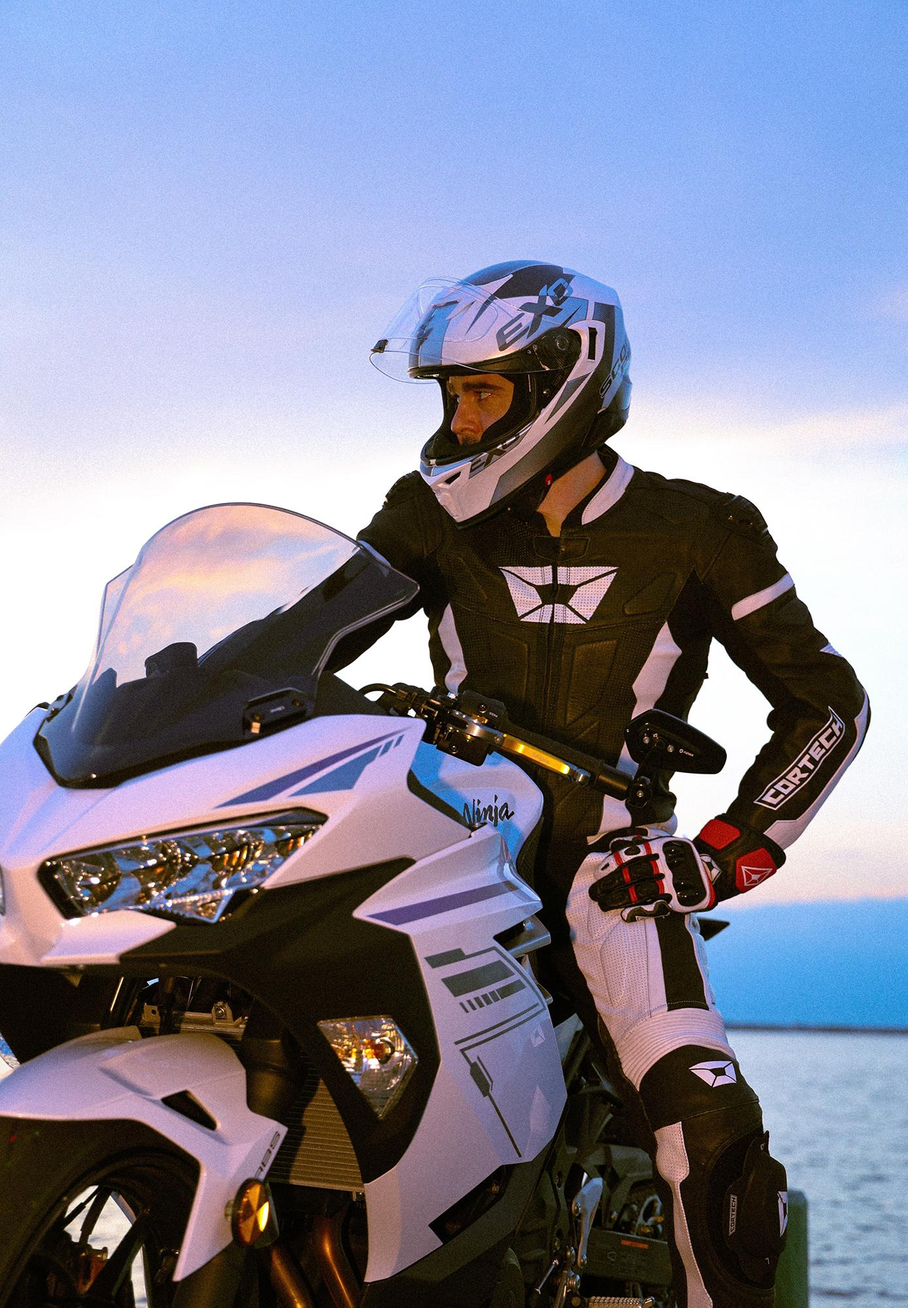helmet: (368, 258, 634, 531)
